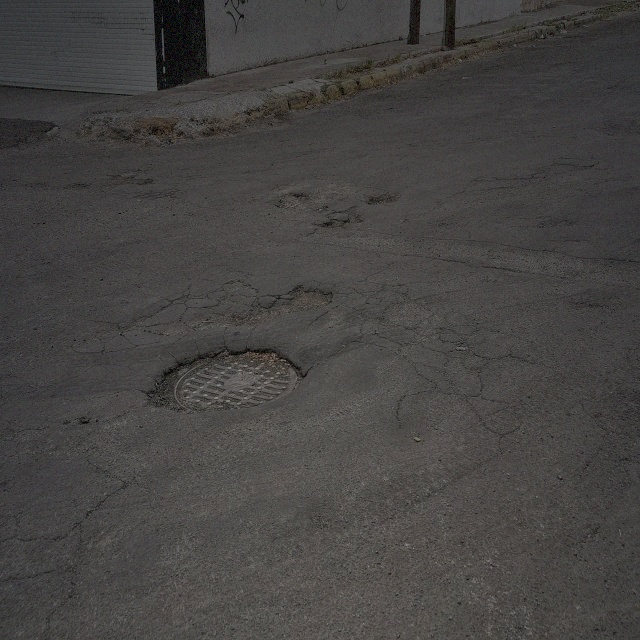pothole: (149, 342, 308, 417), (282, 280, 334, 314), (224, 296, 278, 328), (280, 188, 324, 214), (322, 206, 361, 228), (368, 191, 399, 204), (130, 174, 155, 187)
